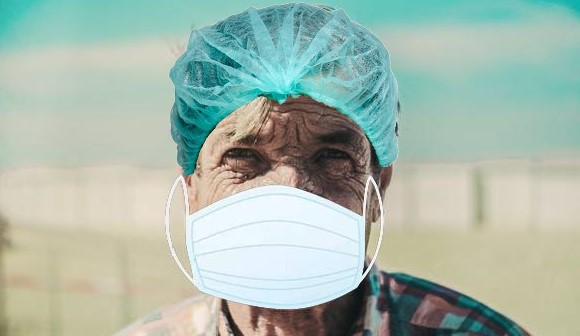with_mask_and_cap: (167, 3, 399, 306)
